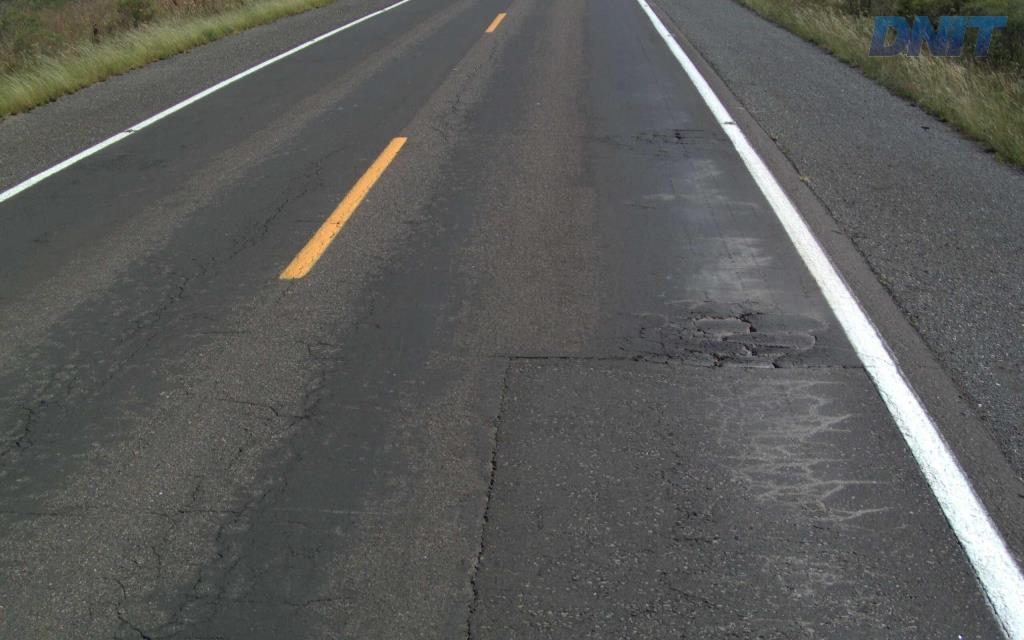crack: (482, 415, 504, 523), (463, 565, 481, 639)
